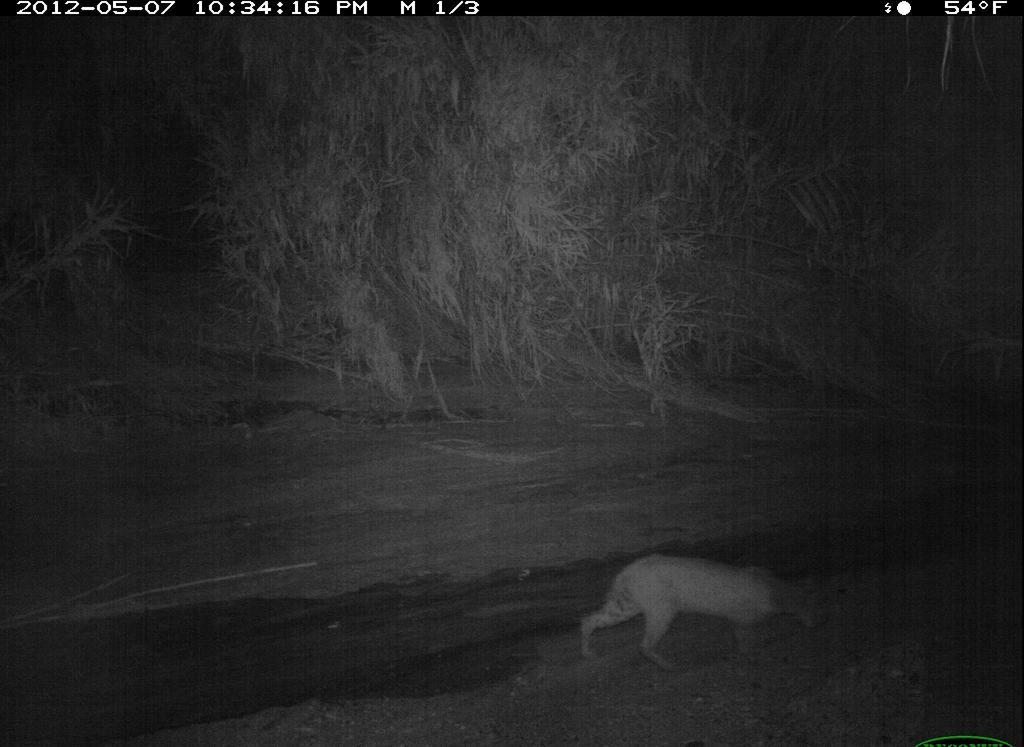bobcat: (574, 539, 834, 676)
